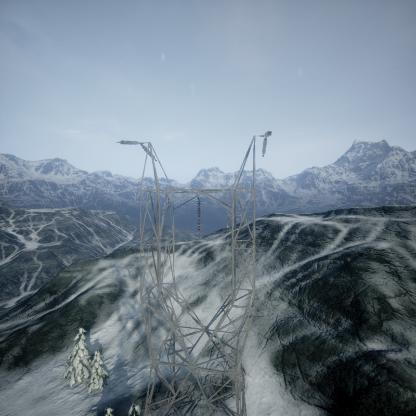insulator: (195, 198, 204, 233)
tower: (120, 126, 275, 416)
